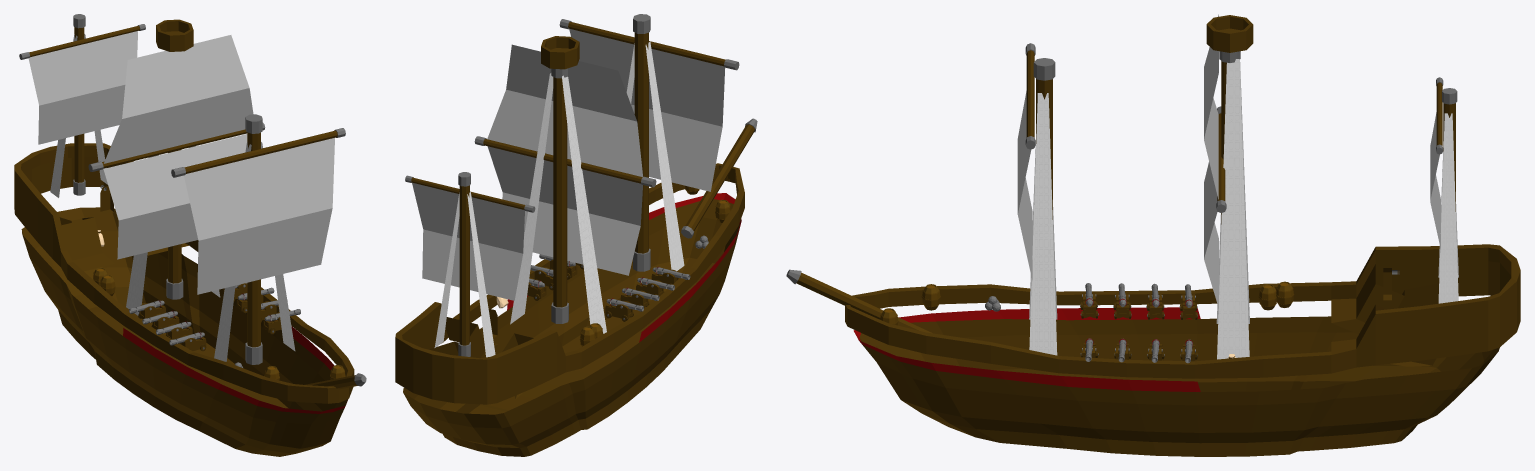
The model's file is Brigantine_Mod.fbx.
3 renders of one model, left to right at view 1: azimuth 30°, elevation 25°; view 2: azimuth 150°, elevation 25°; view 3: azimuth 270°, elevation 25°, orthographic. The views are drawn at different scales.
Visible parts, largest first — view 1: Plane.034, Plane.038, Plane.036, Plane.039, Plane.035, Cylinder.045, Cylinder.041, Cylinder.044, Plane.040, Cylinder.046, Cylinder.047, Plane.037 (+4 smaller); view 2: Plane.034, Plane.036, Plane.038, Plane.035, Plane.039, Plane.037, Cylinder.041, Cylinder.044, Cylinder.045, Plane.040, Plane.041, Cylinder.047 (+4 smaller); view 3: Plane.034, Plane.037, Plane.040, Cylinder.045, Plane.041, Cylinder.041, Plane.038, Plane.036, Plane.035, Cylinder.049, Cylinder.044, Cylinder.046 (+1 smaller).
Boxes of the visible parts, x1=… form: Plane.034: x1=14, y1=143, x2=354, y2=456; Plane.038: x1=184, y1=138, x2=334, y2=294; Plane.036: x1=104, y1=35, x2=253, y2=163; Plane.039: x1=28, y1=31, x2=137, y2=144; Plane.035: x1=103, y1=134, x2=247, y2=259; Cylinder.045: x1=129, y1=283, x2=300, y2=351; Cylinder.041: x1=156, y1=19, x2=193, y2=299; Cylinder.044: x1=245, y1=114, x2=262, y2=364; Plane.040: x1=214, y1=142, x2=295, y2=361; Cylinder.046: x1=171, y1=128, x2=345, y2=177; Cylinder.047: x1=73, y1=14, x2=85, y2=195; Plane.037: x1=126, y1=146, x2=220, y2=315; Plane.034: x1=395, y1=163, x2=744, y2=456; Plane.036: x1=487, y1=44, x2=642, y2=176; Plane.038: x1=569, y1=28, x2=725, y2=191; Plane.035: x1=487, y1=146, x2=642, y2=275; Plane.039: x1=412, y1=182, x2=524, y2=300; Plane.037: x1=510, y1=73, x2=606, y2=333; Cylinder.041: x1=541, y1=36, x2=579, y2=323; Cylinder.044: x1=633, y1=14, x2=650, y2=271; Cylinder.045: x1=527, y1=254, x2=690, y2=321; Plane.040: x1=626, y1=41, x2=684, y2=271; Plane.041: x1=434, y1=192, x2=495, y2=357; Cylinder.047: x1=458, y1=172, x2=470, y2=356; Plane.034: x1=845, y1=244, x2=1520, y2=456; Plane.037: x1=1216, y1=59, x2=1249, y2=359; Plane.040: x1=1029, y1=93, x2=1057, y2=355; Cylinder.045: x1=1080, y1=283, x2=1197, y2=363; Plane.041: x1=1438, y1=113, x2=1458, y2=303; Cylinder.041: x1=1206, y1=15, x2=1253, y2=224; Plane.038: x1=1017, y1=91, x2=1032, y2=280; Plane.036: x1=1204, y1=14, x2=1218, y2=199; Plane.035: x1=1204, y1=162, x2=1218, y2=308; Cylinder.049: x1=786, y1=269, x2=932, y2=333; Cylinder.044: x1=1033, y1=58, x2=1055, y2=219; Cylinder.046: x1=1025, y1=43, x2=1035, y2=149.
Bounding box in the file's own units: 2106 × 4022 × 6655.
